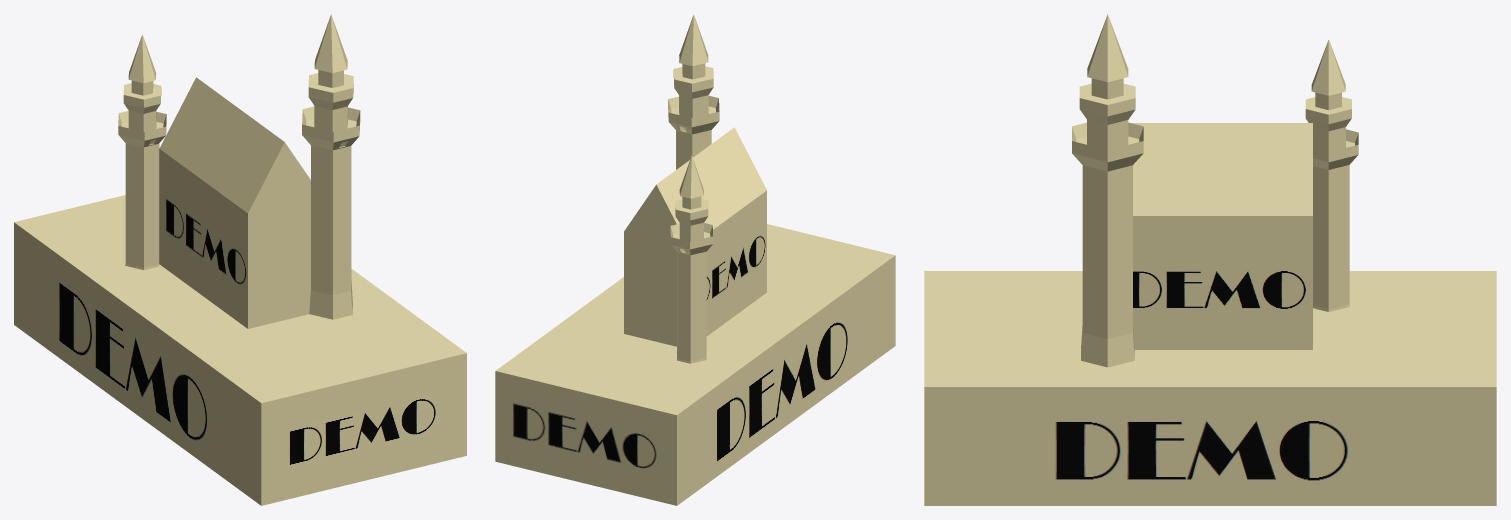
Rendered from ExportedBlenderFBXFile.fbx.
3 renders of one model, left to right at view 1: azimuth 30°, elevation 25°; view 2: azimuth 150°, elevation 25°; view 3: azimuth 270°, elevation 25°, orthographic. The views are drawn at different scales.
Visible parts, largest first — view 1: Cylinder; view 2: Cylinder; view 3: Cylinder.
Part boxes in pixels (x1,y1,x2,y2): Cylinder: (14, 14, 466, 505); Cylinder: (495, 14, 895, 505); Cylinder: (924, 14, 1496, 505).
Bounding box in the file's own units: 2.97 × 5.48 × 6.18.
